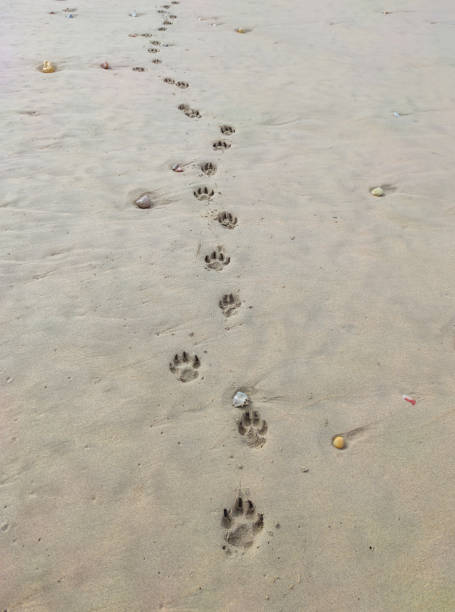animal_foot_print: (221, 494, 263, 548), (238, 410, 267, 446), (169, 351, 199, 381), (204, 246, 229, 270), (219, 293, 240, 316), (217, 211, 236, 228), (177, 104, 200, 117), (193, 186, 214, 199), (200, 162, 216, 175), (212, 140, 230, 149), (220, 125, 234, 134), (177, 104, 190, 111), (175, 81, 188, 88), (163, 77, 174, 84), (147, 47, 159, 52), (132, 66, 144, 71), (149, 40, 160, 45), (152, 58, 161, 63), (163, 19, 172, 24), (157, 9, 166, 13), (171, 0, 179, 4), (161, 4, 169, 8), (168, 14, 176, 18), (158, 26, 166, 30)
